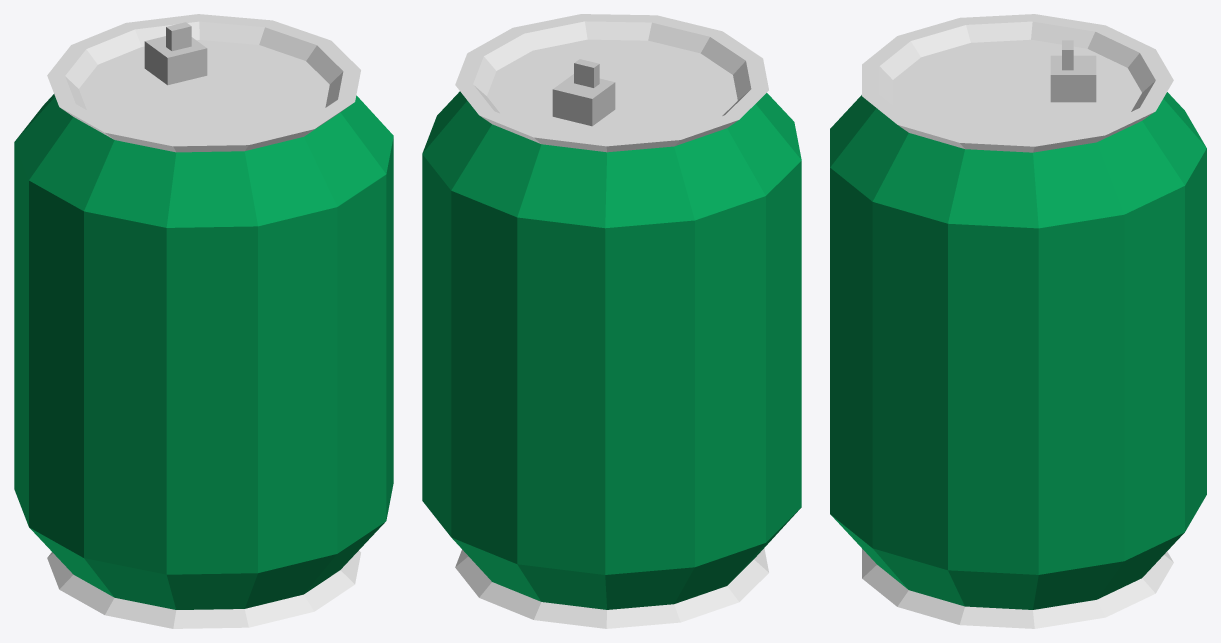
The model's file is can_green.glb.
3 views of the same model, side by side, from view 1: azimuth 30°, elevation 25°; view 2: azimuth 150°, elevation 25°; view 3: azimuth 270°, elevation 25° (orthographic).
Parts seen in each view (by area): view 1: Cylinder.001_Material.001_0, Cylinder.001_Material.002_0, Cylinder.001_Material.003_0; view 2: Cylinder.001_Material.001_0, Cylinder.001_Material.002_0, Cylinder.001_Material.003_0; view 3: Cylinder.001_Material.001_0, Cylinder.001_Material.002_0, Cylinder.001_Material.003_0.
Boxes of the visible parts, bbox=[...] form: Cylinder.001_Material.001_0: bbox=[14, 94, 393, 609]; Cylinder.001_Material.002_0: bbox=[47, 14, 360, 628]; Cylinder.001_Material.003_0: bbox=[144, 22, 207, 85]; Cylinder.001_Material.001_0: bbox=[422, 91, 801, 609]; Cylinder.001_Material.002_0: bbox=[455, 14, 768, 628]; Cylinder.001_Material.003_0: bbox=[552, 59, 615, 126]; Cylinder.001_Material.001_0: bbox=[830, 92, 1206, 609]; Cylinder.001_Material.002_0: bbox=[862, 14, 1173, 628]; Cylinder.001_Material.003_0: bbox=[1050, 40, 1096, 102].
Size of the model in its own units: 199 by 299 by 197.
